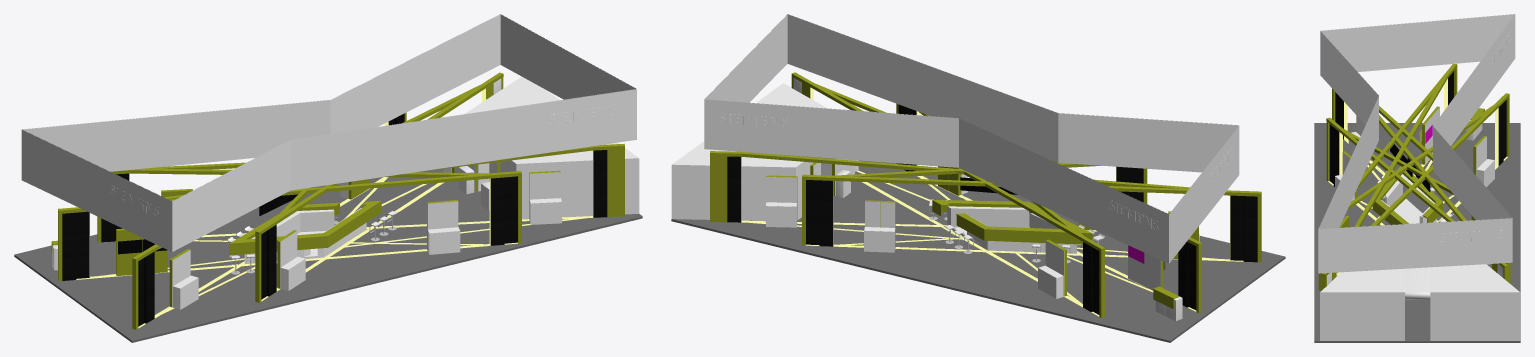
3 views of the same model, side by side, from view 1: azimuth 30°, elevation 25°; view 2: azimuth 150°, elevation 25°; view 3: azimuth 270°, elevation 25° (orthographic). The views are drawn at different scales.
Parts seen in each view (by area): view 1: Markendach_1, Boden_1, Polygon_Objekt, Infrastruktur_2, Boden_Bar_1, Boden_Bar_1_2, object 126, object 16, object 131, Change1, object 106; view 2: Markendach_1, Boden_1, Polygon_Objekt, Infrastruktur_1, Boden_Bar_1, Boden_Bar_1_2, object 126, object 15, object 131, object 108, object 109; view 3: Markendach_1, Boden_1, Polygon_Objekt, Infrastruktur_1, Infrastruktur_2, object 126, object 131, Boden_Bar_1_2, Boden_Bar_1, Infra_Dach_Gang, object 15, GelberAbdeckStreifenANI (+1 smaller).
Boxes of the visible parts, x1,y1,x2,y2 form: Markendach_1: (21, 14, 636, 251); Boden_1: (14, 168, 642, 342); Polygon_Objekt: (58, 73, 621, 262); Infrastruktur_2: (500, 158, 639, 219); Boden_Bar_1: (229, 200, 381, 255); Boden_Bar_1_2: (244, 208, 366, 263); object 126: (464, 76, 559, 114); object 16: (116, 228, 167, 275); object 131: (512, 142, 638, 163); Change1: (76, 242, 517, 279); object 106: (261, 182, 444, 301); Markendach_1: (704, 14, 1239, 263); Boden_1: (671, 160, 1285, 342); Polygon_Objekt: (713, 73, 1257, 251); Infrastruktur_1: (671, 162, 813, 220); Boden_Bar_1: (932, 200, 1092, 244); Boden_Bar_1_2: (947, 206, 1076, 253); object 126: (672, 141, 802, 167); object 15: (1128, 245, 1160, 290); object 131: (755, 83, 827, 108); object 108: (862, 182, 1099, 316); object 109: (805, 244, 1243, 261); Markendach_1: (1318, 14, 1515, 273); Boden_1: (1314, 123, 1520, 342); Polygon_Objekt: (1325, 64, 1508, 276); Infrastruktur_1: (1430, 292, 1520, 340); Infrastruktur_2: (1320, 292, 1404, 340); object 126: (1430, 264, 1519, 292); object 131: (1320, 268, 1404, 292); Boden_Bar_1_2: (1379, 174, 1436, 225); Boden_Bar_1: (1372, 166, 1442, 224); Infra_Dach_Gang: (1405, 267, 1430, 299); object 15: (1425, 107, 1439, 163); GelberAbdeckStreifenANI: (1495, 108, 1498, 166).
Bounding box in the file's own units: 27.56 × 6.63 × 11.02.
